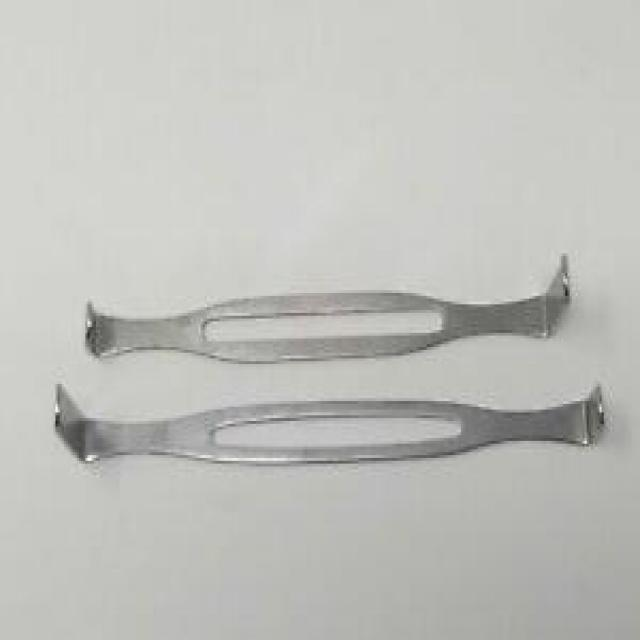Army_navy: (81, 244, 576, 370), (49, 372, 610, 478)
